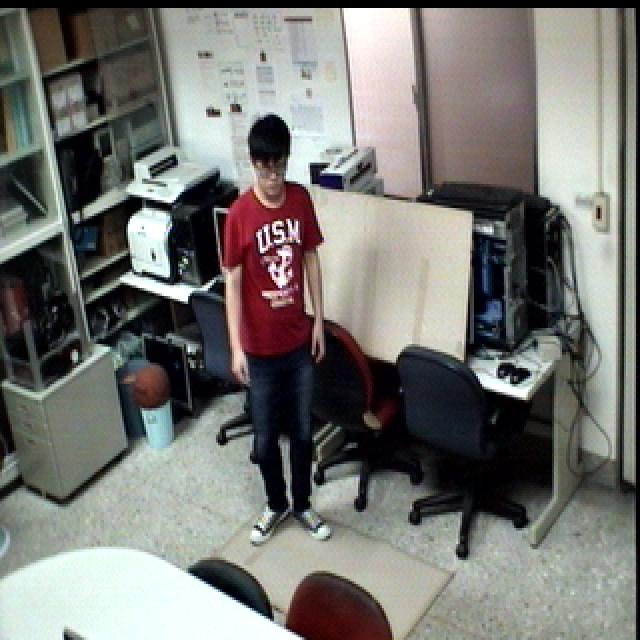stand: (222, 114, 338, 555)
